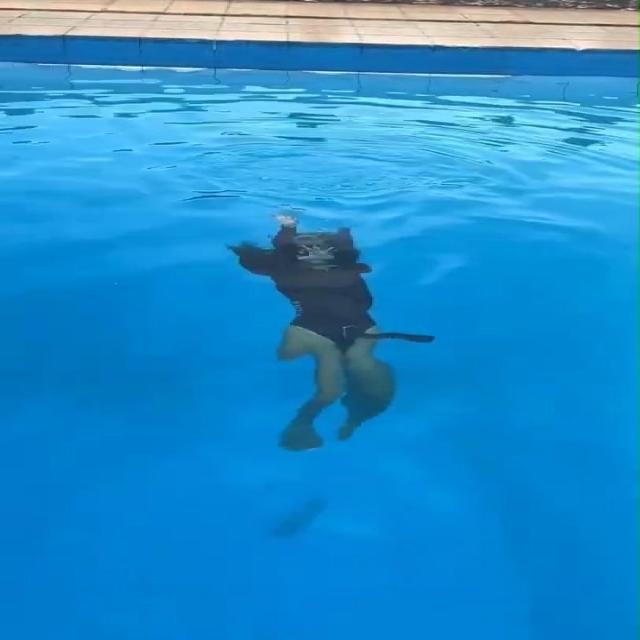drowning: (218, 199, 426, 469)
